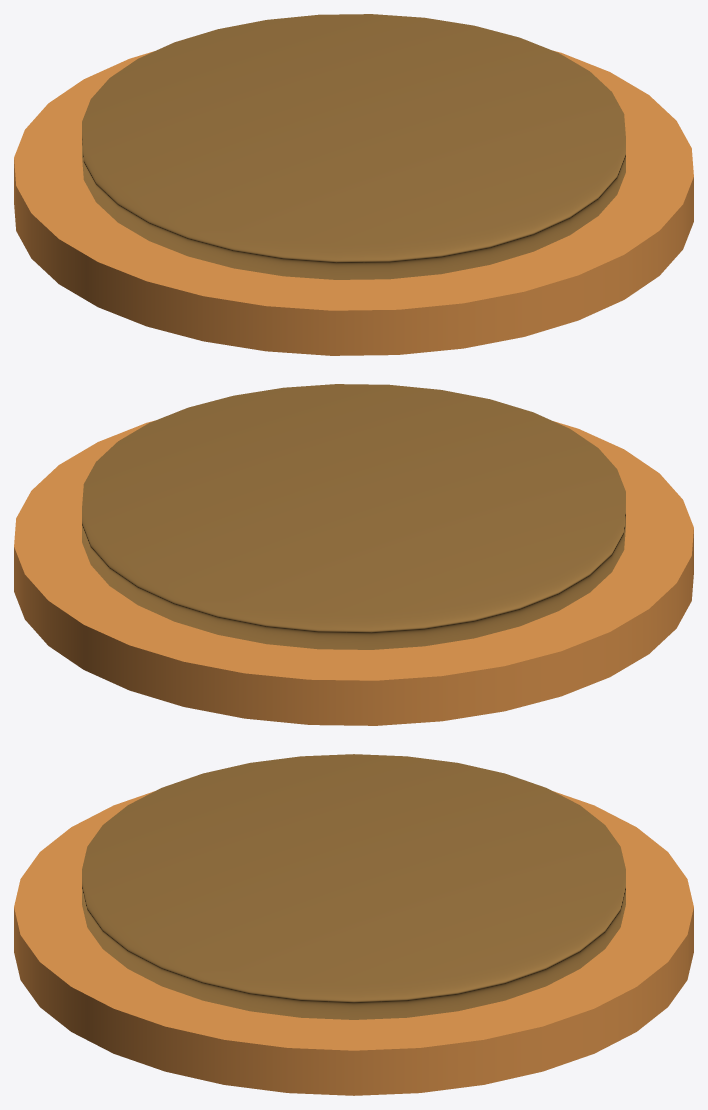
The model's file is Pedana.fbx.
3 renders of one model, top to bottom at view 1: azimuth 30°, elevation 25°; view 2: azimuth 150°, elevation 25°; view 3: azimuth 270°, elevation 25°, orthographic.
Parts seen in each view (by area): view 1: Cylinder.001, Cylinder; view 2: Cylinder.001, Cylinder; view 3: Cylinder.001, Cylinder.
Boxes of the visible parts, x1,y1,x2,y2 form: Cylinder.001: (82,14,625,279); Cylinder: (14,50,693,355); Cylinder.001: (82,384,625,649); Cylinder: (14,420,693,725); Cylinder.001: (82,754,625,1019); Cylinder: (14,791,693,1095).
Size of the model in its own units: 200 by 26.97 by 200.
